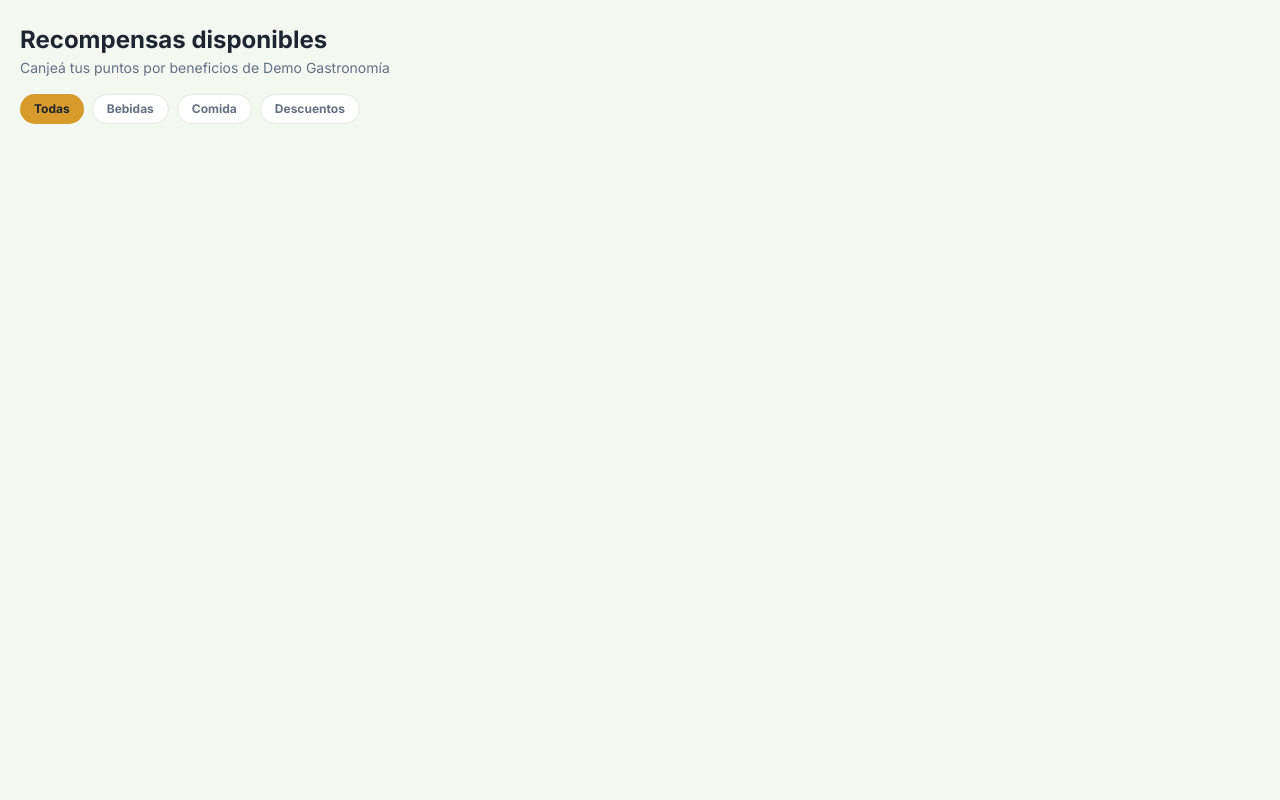
Test: TabRecompensas › filtra las recompensas por categoría
Click the button "Bebidas".
click(130, 109)  # box [92,94,169,124]
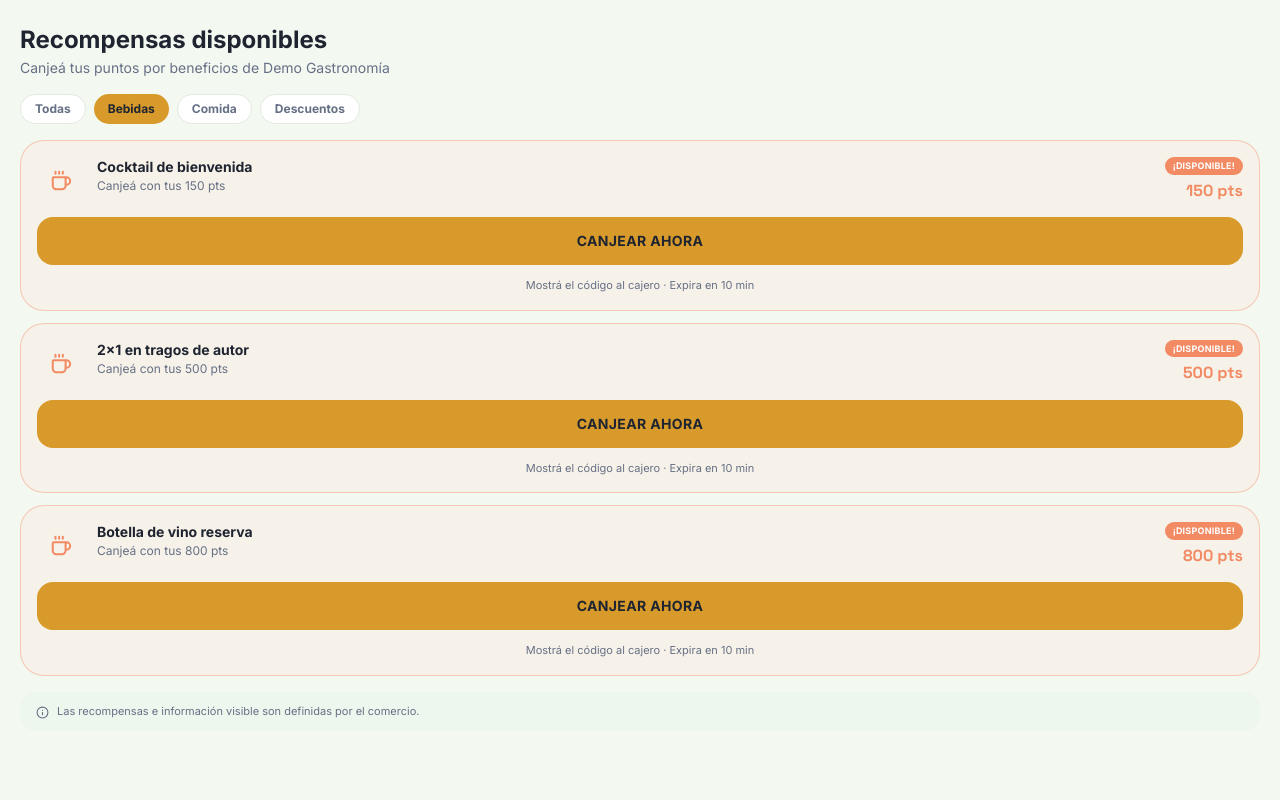
Now the text "Cocktail de bienvenida" is shown, box [97,158,252,175]
